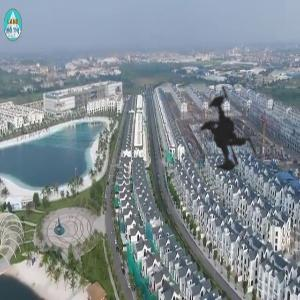drone: (146, 64, 295, 213)
